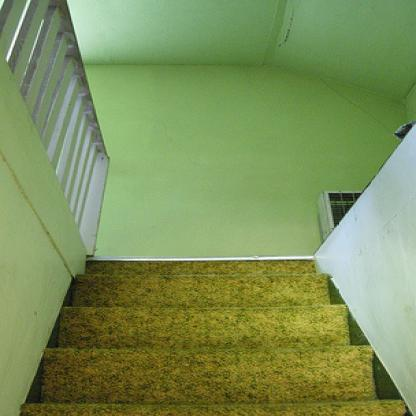stairs: (90, 274, 318, 416)
